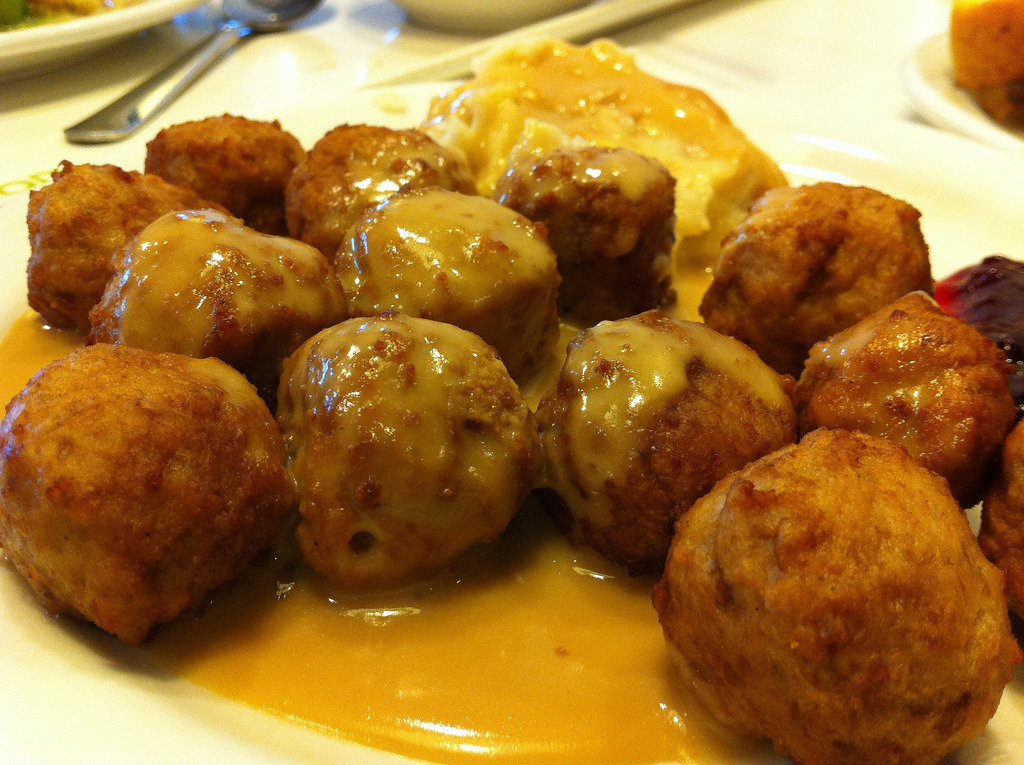meatballs: (662, 428, 1019, 765), (6, 346, 296, 646), (292, 316, 524, 585), (536, 318, 791, 544), (23, 151, 222, 341), (712, 176, 946, 336), (110, 204, 340, 360), (812, 319, 1010, 477), (502, 147, 679, 312), (140, 108, 314, 224), (302, 118, 467, 238)
